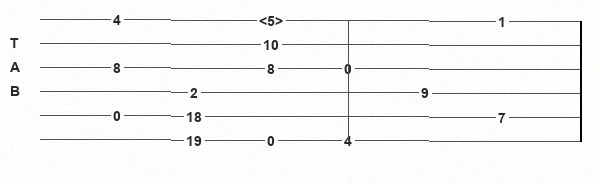0: (113, 109, 125, 123), (267, 133, 279, 147), (344, 61, 356, 75)
1: (498, 13, 510, 27)
10: (263, 37, 283, 51)
18: (186, 109, 206, 123)
19: (186, 133, 206, 147)
2: (190, 85, 202, 99)
4: (113, 13, 125, 27), (344, 133, 356, 147)
7: (498, 109, 510, 123)
8: (113, 61, 125, 75), (267, 61, 279, 75)
9: (421, 85, 433, 99)
harmonic: (259, 13, 287, 27)
